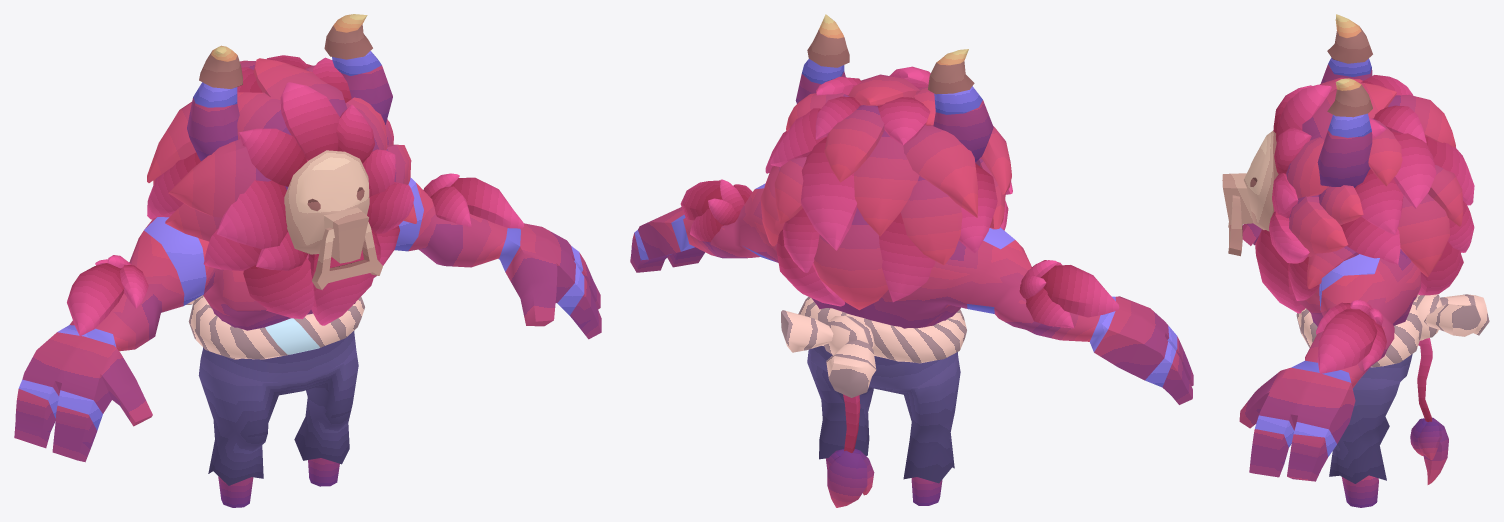
File: monster_3.glb
3 views of the same model, side by side, from view 1: azimuth 30°, elevation 25°; view 2: azimuth 150°, elevation 25°; view 3: azimuth 270°, elevation 25° (orthographic). The views are drawn at different scales.
Visible parts, largest first — view 1: Monster_Hunter_Mesh; view 2: Monster_Hunter_Mesh; view 3: Monster_Hunter_Mesh.
Part boxes in pixels (x1=…): Monster_Hunter_Mesh: x1=14, y1=14, x2=601, y2=507; Monster_Hunter_Mesh: x1=630, y1=14, x2=1193, y2=507; Monster_Hunter_Mesh: x1=1222, y1=14, x2=1489, y2=507.
Size of the model in its own units: 4.71 by 3.59 by 2.
Materials: 1 (1 with a texture image).
